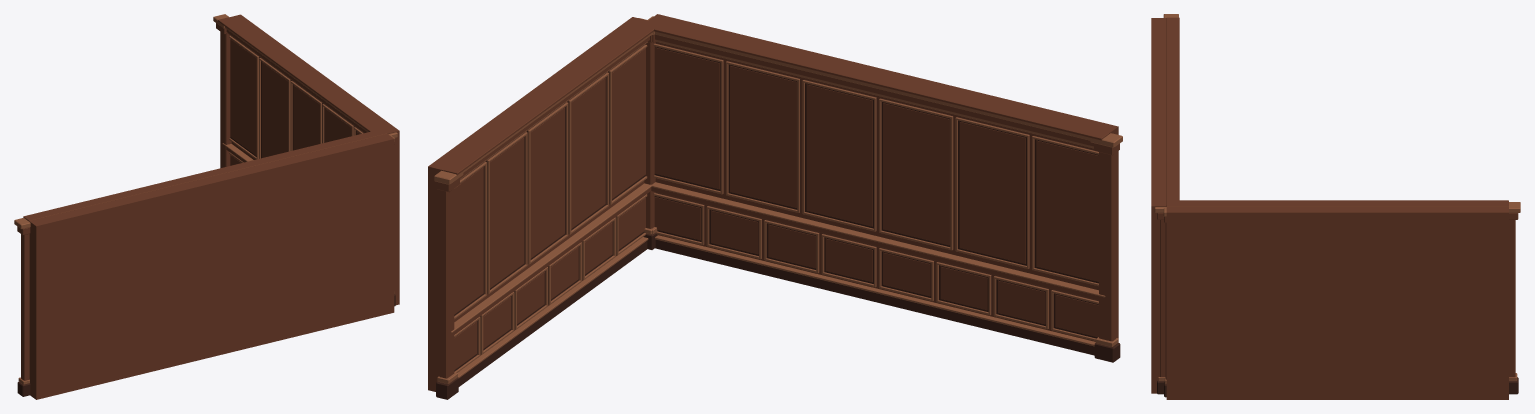
Rendered from dp_complete_shell.glb.
3 views of the same model, side by side, from view 1: azimuth 30°, elevation 25°; view 2: azimuth 150°, elevation 25°; view 3: azimuth 270°, elevation 25° (orthographic). The views are drawn at different scales.
Parts seen in each view (by area): view 1: D_P_front_Wall_Solid_00, D_P_right_Wall_Solid_00, D_P_right_Wall_UpperPanel_00_0_0_Field, D_P_front_Wall_Cornice_00_3_0, D_P_right_Wall_UpperPanel_00_0_1_Field, D_P_right_Wall_Cornice_00_3_0, D_P_right_Wall_UpperPanel_00_0_2_Field, Pilaster_Shaft_004, Pilaster_Shaft_009, D_P_right_Wall_UpperPanel_00_0_3_Field, D_P_right_Wall_Cornice_00_1_0; view 2: D_P_front_Wall_Solid_00, D_P_front_Wall_UpperPanel_00_0_1_Field, D_P_front_Wall_UpperPanel_00_0_2_Field, D_P_front_Wall_UpperPanel_00_0_3_Field, D_P_front_Wall_UpperPanel_00_0_4_Field, D_P_front_Wall_UpperPanel_00_0_0_Field, D_P_front_Wall_UpperPanel_00_0_5_Field, D_P_right_Wall_Solid_00, D_P_front_Wall_Cornice_00_3_0, D_P_right_Wall_UpperPanel_00_0_1_Field, D_P_right_Wall_UpperPanel_00_0_2_Field, D_P_right_Wall_UpperPanel_00_0_3_Field (+38 smaller); view 3: D_P_right_Wall_Solid_00, D_P_front_Wall_Solid_00, D_P_front_Wall_Cornice_00_3_0, D_P_right_Wall_Cornice_00_3_0, Pilaster_Shaft_004, Pilaster_Shaft_005.
Boxes of the visible parts, left/top/right/bottom form: D_P_front_Wall_Solid_00: left=29, top=134, right=394, bottom=399; D_P_right_Wall_Solid_00: left=229, top=14, right=399, bottom=305; D_P_right_Wall_UpperPanel_00_0_0_Field: left=230, top=39, right=256, bottom=155; D_P_front_Wall_Cornice_00_3_0: left=23, top=130, right=386, bottom=221; D_P_right_Wall_UpperPanel_00_0_1_Field: left=261, top=62, right=288, bottom=157; D_P_right_Wall_Cornice_00_3_0: left=218, top=17, right=386, bottom=135; D_P_right_Wall_UpperPanel_00_0_2_Field: left=293, top=85, right=319, bottom=150; Pilaster_Shaft_004: left=220, top=32, right=231, bottom=168; Pilaster_Shaft_009: left=21, top=234, right=29, bottom=380; D_P_right_Wall_UpperPanel_00_0_3_Field: left=324, top=108, right=351, bottom=142; D_P_right_Wall_Cornice_00_1_0: left=226, top=29, right=367, bottom=132; D_P_front_Wall_Solid_00: left=649, top=14, right=1118, bottom=341; D_P_front_Wall_UpperPanel_00_0_1_Field: left=730, top=65, right=796, bottom=207; D_P_front_Wall_UpperPanel_00_0_2_Field: left=806, top=84, right=872, bottom=226; D_P_front_Wall_UpperPanel_00_0_3_Field: left=883, top=103, right=949, bottom=245; D_P_front_Wall_UpperPanel_00_0_4_Field: left=959, top=122, right=1025, bottom=263; D_P_front_Wall_UpperPanel_00_0_0_Field: left=654, top=47, right=719, bottom=189; D_P_front_Wall_UpperPanel_00_0_5_Field: left=1036, top=140, right=1098, bottom=281; D_P_right_Wall_Solid_00: left=428, top=17, right=647, bottom=391; D_P_front_Wall_Cornice_00_3_0: left=641, top=20, right=1109, bottom=140; D_P_right_Wall_UpperPanel_00_0_1_Field: left=490, top=137, right=524, bottom=288; D_P_right_Wall_UpperPanel_00_0_2_Field: left=530, top=107, right=564, bottom=258; D_P_right_Wall_UpperPanel_00_0_3_Field: left=571, top=78, right=605, bottom=228; D_P_right_Wall_Solid_00: left=1166, top=206, right=1508, bottom=399; D_P_front_Wall_Solid_00: left=1151, top=18, right=1166, bottom=393; D_P_front_Wall_Cornice_00_3_0: left=1166, top=17, right=1179, bottom=205; D_P_right_Wall_Cornice_00_3_0: left=1167, top=200, right=1508, bottom=206; Pilaster_Shaft_004: left=1509, top=220, right=1515, bottom=377; Pilaster_Shaft_005: left=1160, top=220, right=1165, bottom=377.
Size of the model in its own units: 8.7 by 3.81 by 6.8.
